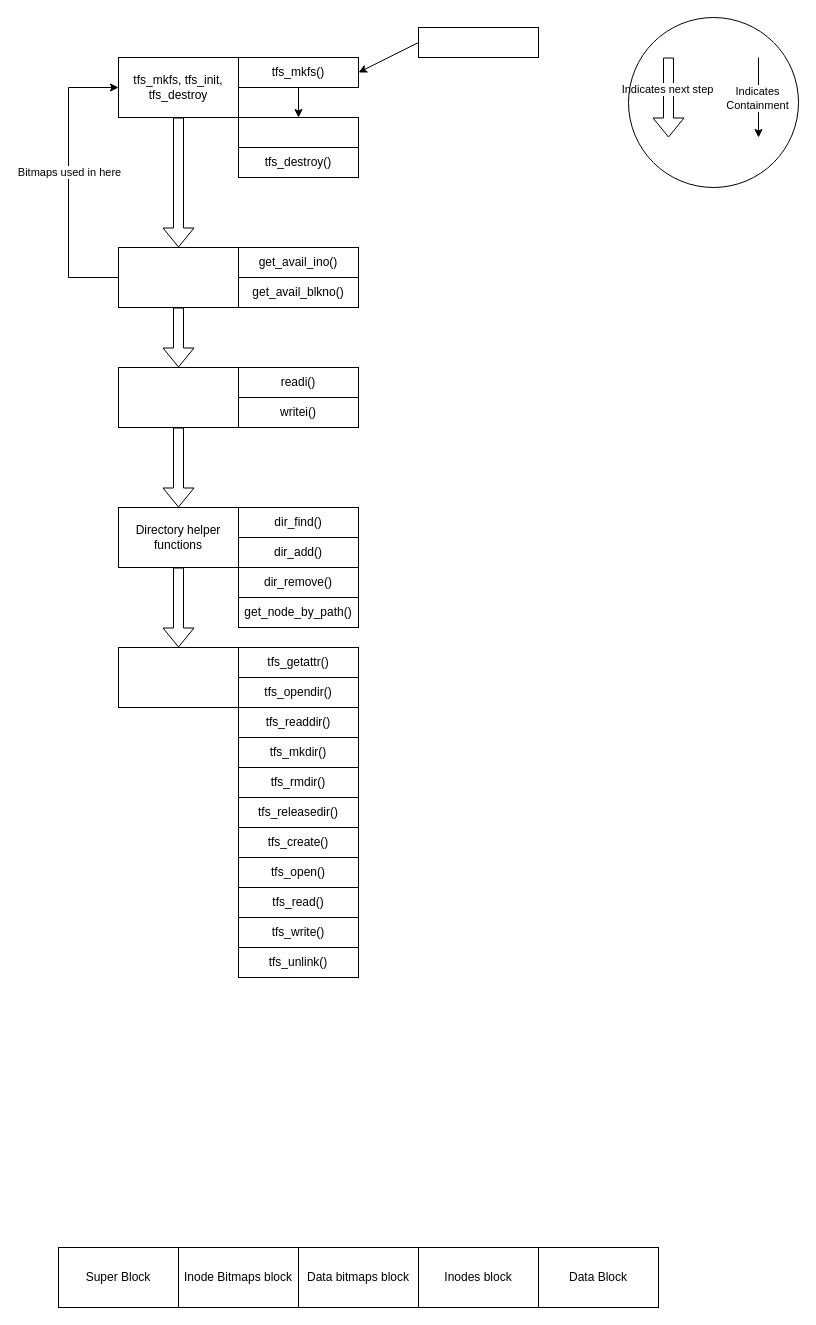
The diagram is 816 pixels wide and 1325 high, and some of its shapes have lost their labels. Here are the shapes that lost their labels. From the top down, the centre of each, then its label:
the point at 478,42: dev_init()
the point at 298,132: tfs_init()
the point at 178,277: Bitmap helper functions
the point at 178,397: Inode helper functions
the point at 178,677: File system handlers
